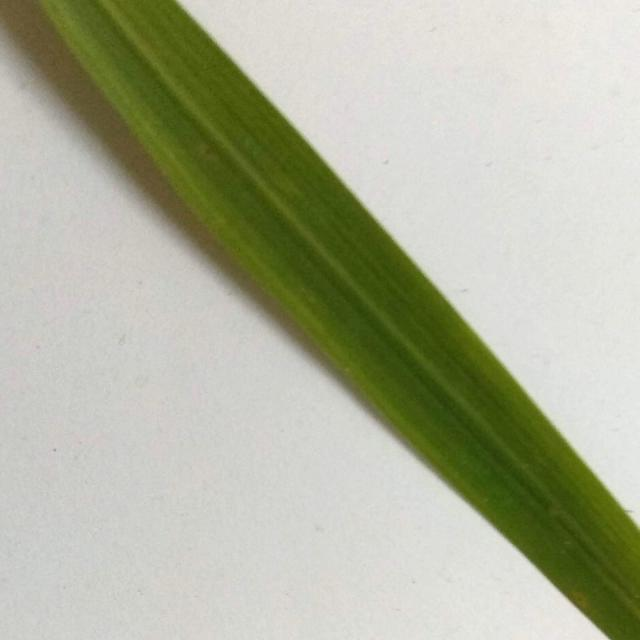healthy: (34, 0, 640, 640)
